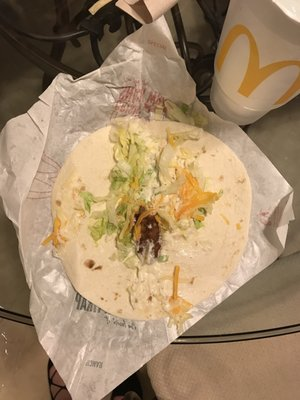pizza: (209, 0, 300, 127)
